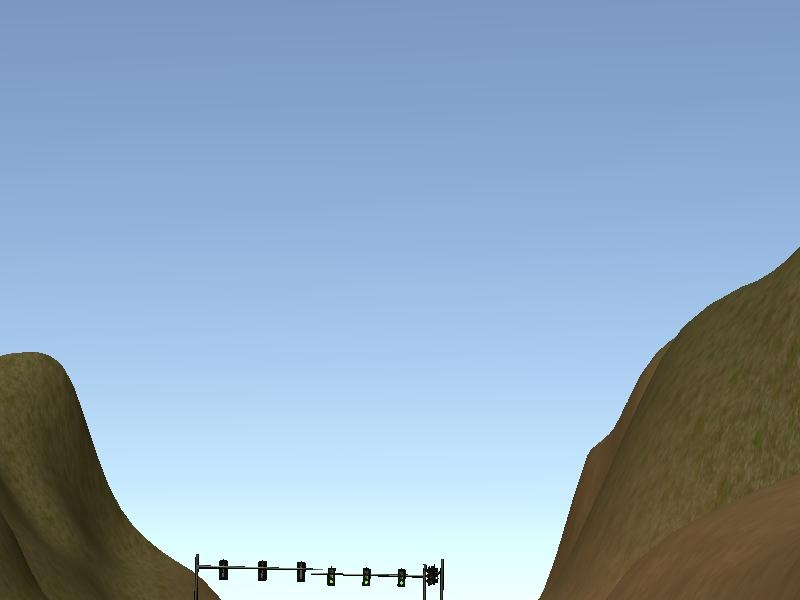green: (325, 565, 337, 588), (360, 567, 372, 587), (398, 568, 406, 589)
